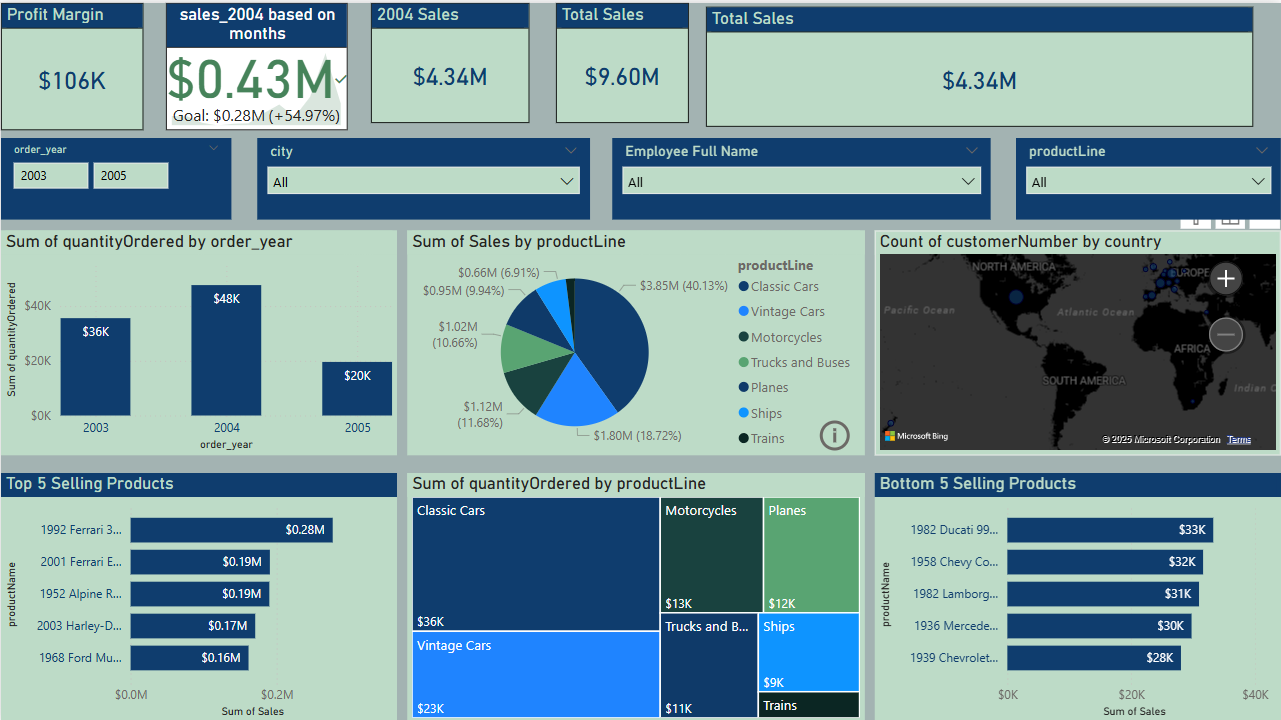

What the dashboard file says about the page in this screenshot:
{"tool":"powerbi","page":{"name":"Page 1","canvas":[1280,720],"ordinal":0},"visuals":[{"type":"pieChart","fields":{"Category":["products.productLine"],"Y":["order details.Sales"]},"box":[406.2,227.5,457.5,225],"z":0},{"type":"barChart","title":"Top 5 Selling Products","fields":{"Category":["products.productName"],"Y":["order details.Sales"]},"box":[0,470,396.2,250],"z":1000},{"type":"slicer","fields":{"Values":["orders.order_year"]},"box":[0,135,230,81.2],"z":2000},{"type":"card","title":"Profit Margin","fields":{"Values":["order details.quantityOrdered"]},"box":[0,0,142.5,127.5],"z":3000},{"type":"kpi","title":"sales_2004 based on months","fields":{"TrendLine":["orders.Month Name"],"Indicator":["orders.sales_2004"],"Goal":["orders.sales_2003"]},"box":[165,0,181.2,127.5],"z":4000},{"type":"map","fields":{"Size":["customers.customerNumber"],"Category":["customers.country"]},"box":[873.8,227.5,406.2,225],"z":5000},{"type":"treemap","fields":{"Group":["productlines.productLine"],"Values":["order details.quantityOrdered"]},"box":[406.2,470,457.5,250],"z":6000},{"type":"columnChart","fields":{"Category":["orders.order_year"],"Y":["order details.quantityOrdered"]},"box":[0,227.5,396.2,225],"z":7000},{"type":"card","title":"Total Sales","fields":{"Values":["order details.Sales"]},"box":[555,0,132.5,120],"z":8000},{"type":"card","title":"2004 Sales","fields":{"Values":["orders.sales_2004"]},"box":[370,0,158.8,120],"z":9000},{"type":"slicer","fields":{"Values":["customers.city"]},"box":[256.2,135,332.5,81.2],"z":10000},{"type":"slicer","fields":{"Values":["employees.Employee Full Name"]},"box":[611.2,135,378.8,81.2],"z":11000},{"type":"slicer","fields":{"Values":["productlines.productLine"]},"box":[1015,135,265,81.2],"z":12000},{"type":"card","title":"Total Sales","fields":{"Values":["orders.sales_2004"]},"box":[705,3.8,547.5,120],"z":13000},{"type":"barChart","title":"Bottom 5 Selling Products","fields":{"Category":["products.productName"],"Y":["order details.Sales"]},"box":[873.8,470,406.2,250],"z":14000},{"type":"actionButton","box":[813.8,412.5,100,40],"z":15000}]}

Visuals, with their boxes in screenshot pixels (x1, y1, x2, y2), scaled from the page's 1280x720 canvas onto the 1281x720 screenshot:
pieChart - products.productLine x order details.Sales: detection(407, 228, 864, 452)
"Top 5 Selling Products" barChart: detection(0, 470, 397, 719)
slicer - orders.order_year: detection(0, 135, 230, 216)
"Profit Margin" card: detection(0, 0, 143, 128)
"sales_2004 based on months" kpi: detection(165, 0, 346, 128)
map - customers.customerNumber x customers.country: detection(874, 228, 1280, 452)
treemap - productlines.productLine x order details.quantityOrdered: detection(407, 470, 864, 719)
columnChart - orders.order_year x order details.quantityOrdered: detection(0, 228, 397, 452)
"Total Sales" card: detection(555, 0, 688, 120)
"2004 Sales" card: detection(370, 0, 529, 120)
slicer - customers.city: detection(256, 135, 589, 216)
slicer - employees.Employee Full Name: detection(612, 135, 991, 216)
slicer - productlines.productLine: detection(1016, 135, 1280, 216)
"Total Sales" card: detection(706, 4, 1253, 124)
"Bottom 5 Selling Products" barChart: detection(874, 470, 1280, 719)
actionButton: detection(814, 412, 915, 452)
